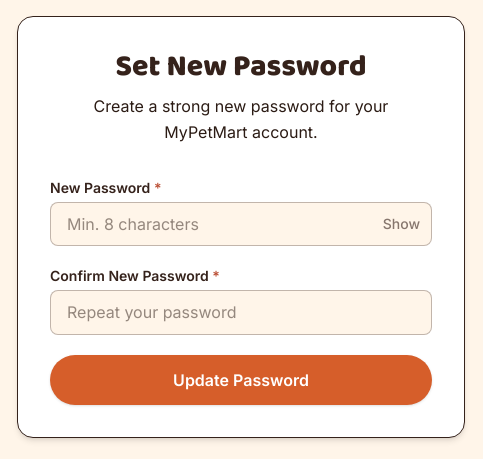
Test: Stage 8.7: Email Verification & Password Recovery Website UI Tests › 4. ResetPasswordForm submits new password and displays completion UI
Expected: the button "Update Password" is enabled, [50,355,432,405]
Expected: the heading "Set New Password" is shown, [116,43,366,91]
Type "NewSecurePassword123" into the password field with placeholder "Min. 8 characters" at (241, 224), box [50,202,432,246]
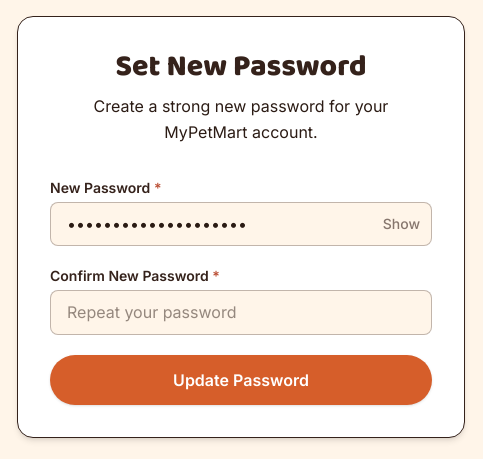
Type "NewSecurePassword123" into the password field with placeholder "Repeat your password" at (241, 312), box [50,290,432,335]
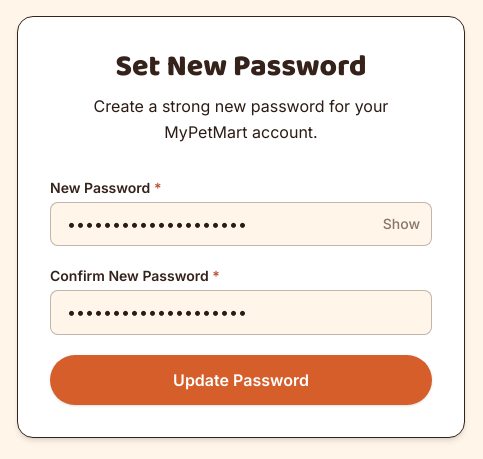
Click the button "Update Password" at (241, 380), box [50,355,432,405]
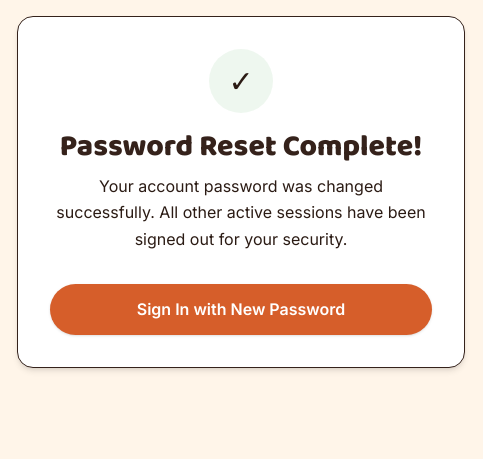
Result: the heading "Password Reset Complete!" is shown at [50,129,432,165]
